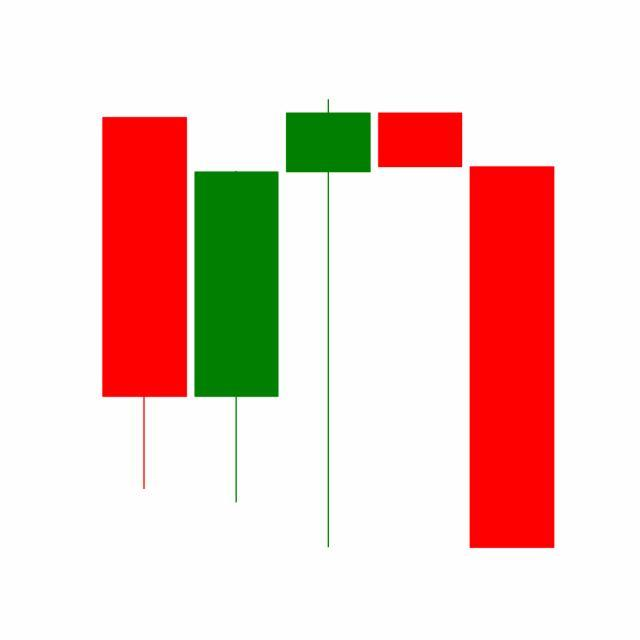Marubozu: (466, 162, 559, 552)
